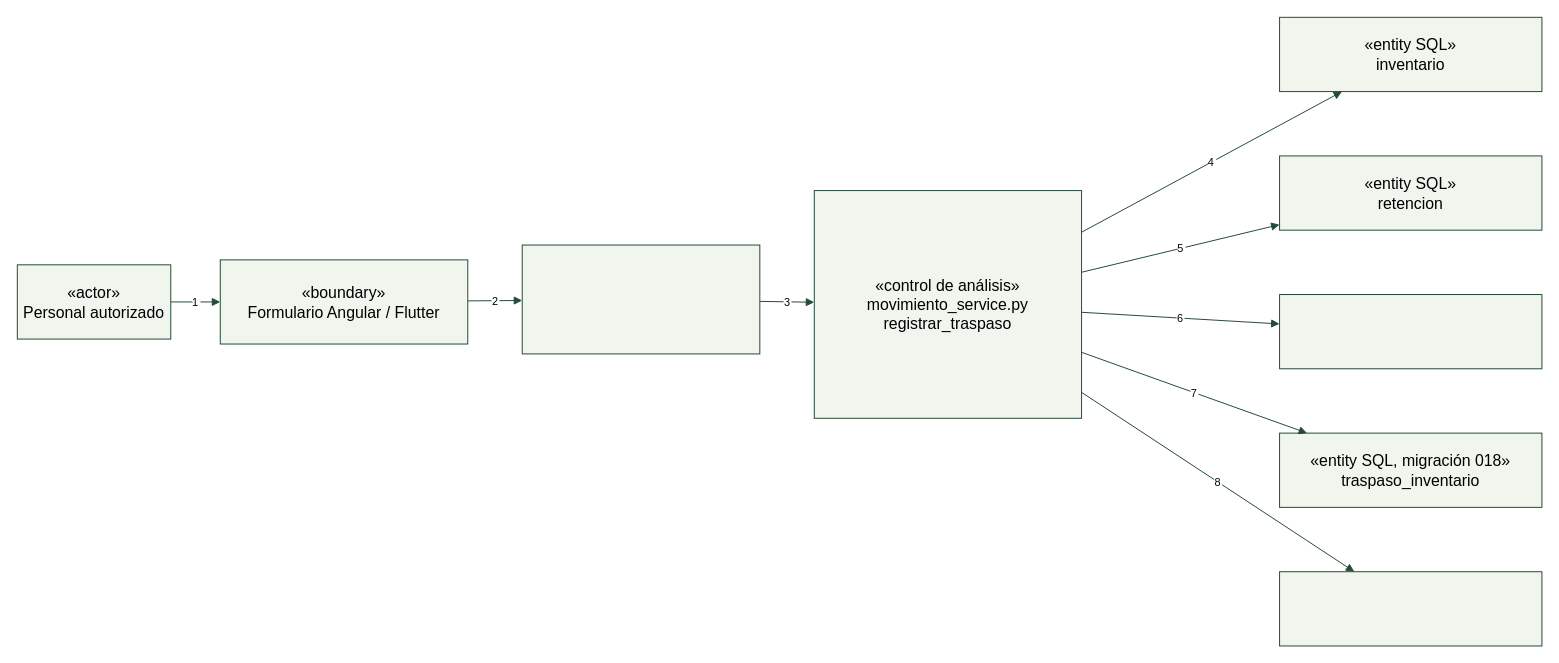
The diagram is 1559 pixels wide and 663 high, and some of its shapes have lost their labels. Each missing label, with the box of its shape:
«control de análisis» movimientos.py registrar_movimiento: (521, 244, 760, 354)
«entity SQL» bitacora: (1279, 571, 1542, 646)
«entity SQL» movimiento_inventario: (1279, 294, 1542, 369)
